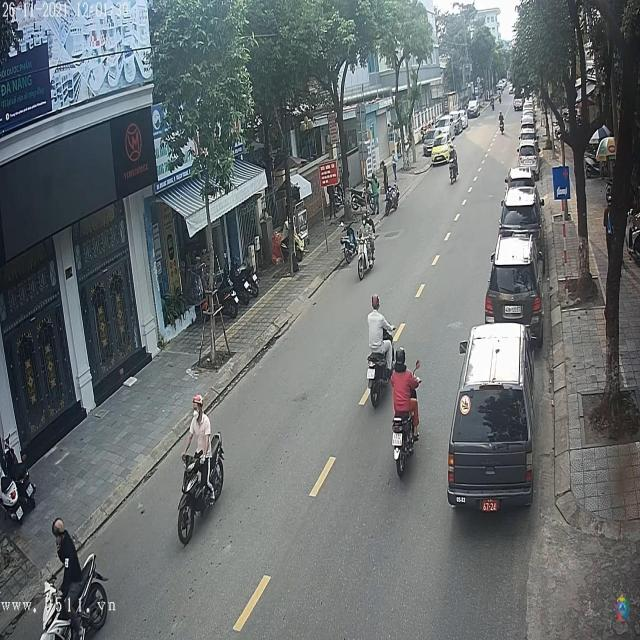car: (448, 326, 534, 510), (485, 234, 543, 336), (502, 184, 540, 227), (518, 144, 540, 170), (468, 99, 481, 117)
motorcycle: (175, 428, 226, 546), (391, 406, 419, 479), (365, 347, 395, 410), (357, 234, 377, 282), (449, 153, 460, 185)
